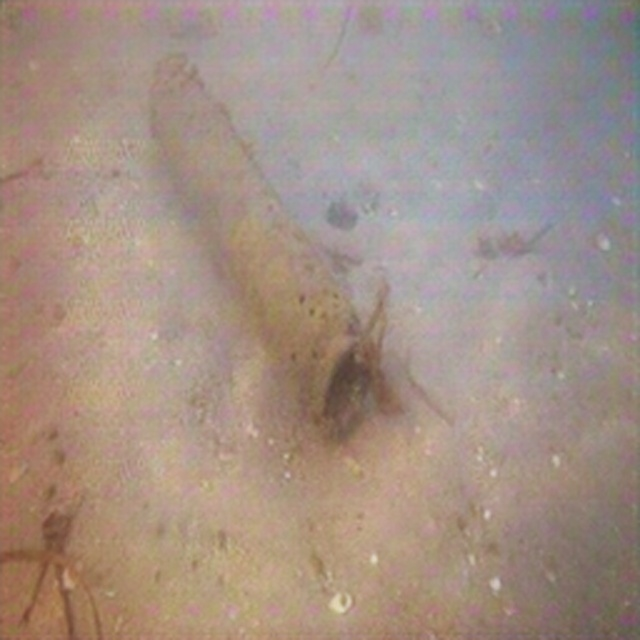mine: (146, 58, 370, 438)
